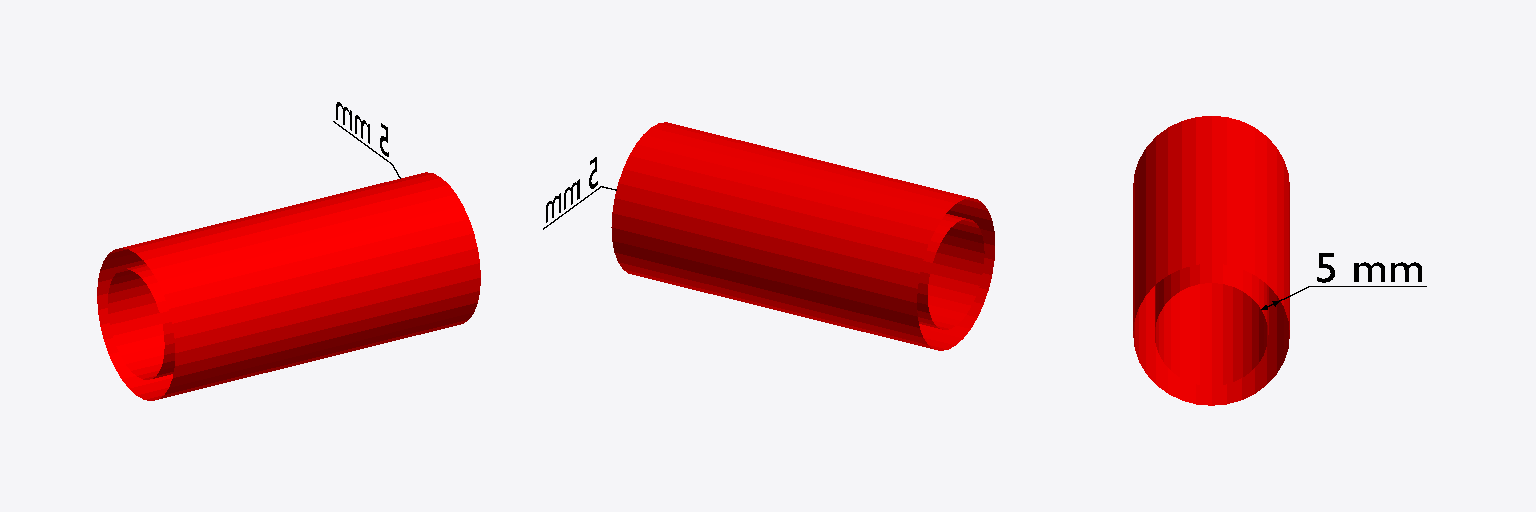
3 views of the same model, side by side, from view 1: azimuth 30°, elevation 25°; view 2: azimuth 150°, elevation 25°; view 3: azimuth 270°, elevation 25° (orthographic).
Parts seen in each view (by area): view 1: ZT; view 2: ZT; view 3: ZT, Text.
Boxes of the visible parts, x1,y1,x2,y2 form: ZT: [97, 172, 480, 400]; ZT: [611, 122, 994, 350]; ZT: [1133, 116, 1289, 405]; Text: [1317, 253, 1421, 282].
Size of the model in its own units: 5.18 by 2.48 by 4.27.